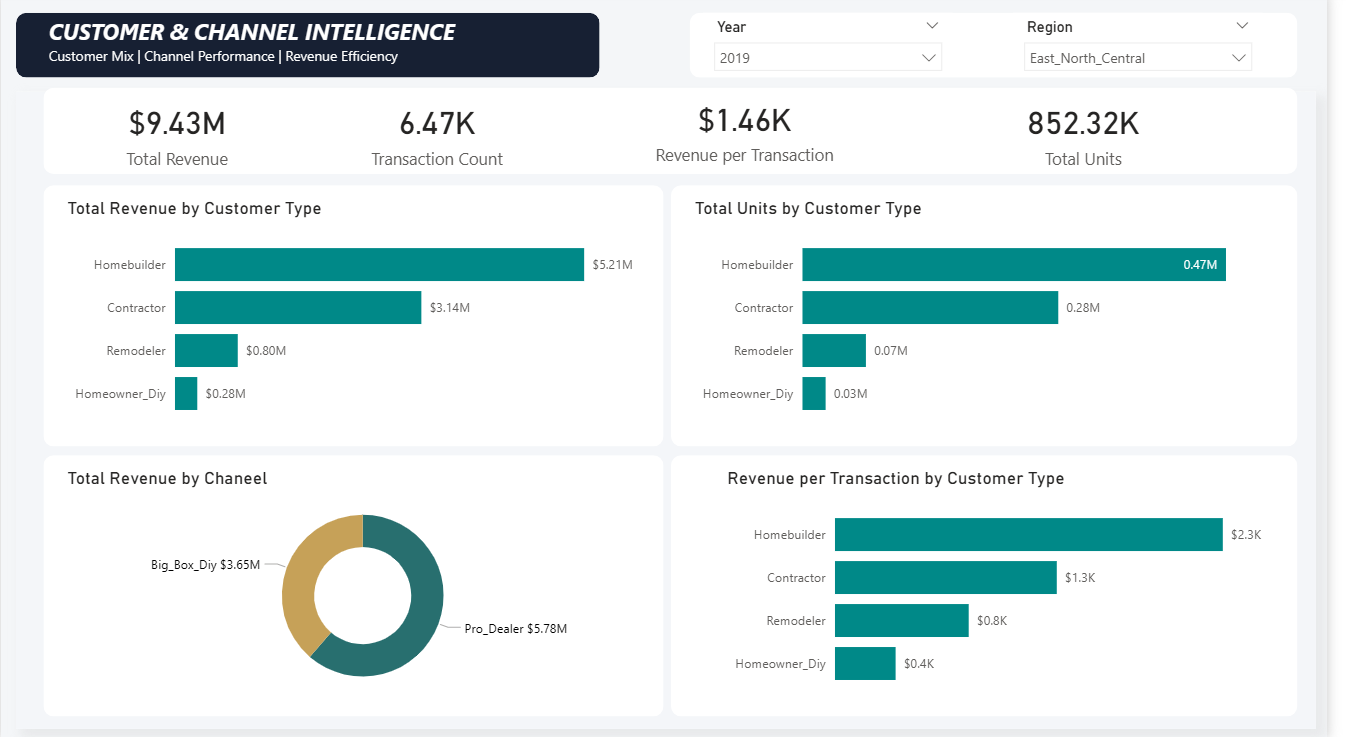

This screenshot's page, from the dashboard's own definition file:
{"tool":"powerbi","page":{"name":"CUSTOMER & CHANNEL INTELLIGENCE  ","canvas":[1280,720],"ordinal":3},"visuals":[{"type":"shape","box":[14.5,18.1,563.4,62.7],"z":0},{"type":"shape","box":[14.5,94.1,1254.7,615.3],"z":1000},{"type":"shape","box":[646.7,445.2,604.4,252.1],"z":2000},{"type":"shape","box":[41,445.2,598.4,252.1],"z":3000},{"type":"shape","box":[646.7,184.6,604.4,252.1],"z":4000},{"type":"shape","box":[41,184.6,598.4,252.1],"z":5000},{"type":"shape","box":[41,90.5,1210.1,83.2],"z":6000},{"type":"textbox","box":[41,18.1,506.7,62.7],"z":7000},{"type":"card","fields":{"Values":["_Measures.Total Revenue"]},"box":[68.8,94.1,202.7,79.6],"z":8000},{"type":"card","fields":{"Values":["_Measures.Transaction Count"]},"box":[319.7,94.1,202.7,79.6],"z":9000},{"type":"card","fields":{"Values":["_Measures.Revenue per Transaction"]},"box":[616.5,90.5,202.7,79.6],"z":10000},{"type":"card","fields":{"Values":["_Measures.Total Units"]},"box":[943.4,94.1,202.7,79.6],"z":11000},{"type":"barChart","fields":{"Category":["DimCustomer.Customer Type"],"Y":["_Measures.Total Revenue"]},"box":[59.1,196.6,557.4,228],"z":12000},{"type":"barChart","fields":{"Category":["DimCustomer.Customer Type"],"Y":["_Measures.Total Units"]},"box":[664.7,196.6,562.2,228],"z":13000},{"type":"barChart","fields":{"Category":["DimCustomer.Customer Type"],"Y":["_Measures.Revenue per Transaction"]},"box":[696.1,457.2,530.8,228],"z":14000},{"type":"donutChart","fields":{"Category":["DimChannel.Chaneel"],"Y":["_Measures.Total Revenue"]},"box":[59.1,457.2,580.3,228],"z":15000},{"type":"shape","box":[664.7,18.1,586.3,62.7],"z":16000},{"type":"slicer","fields":{"Values":["DimDate.Year"]},"box":[678,18.1,240.1,56.7],"z":17000},{"type":"slicer","fields":{"Values":["DimRegion.Region"]},"box":[977.2,18.1,240.1,56.7],"z":18000}]}

Visuals, with their boxes in screenshot pixels (x1, y1, x2, y2), scaled from the page's 1280x720 canvas onto the 1346x737 screenshot:
shape: box=[15, 19, 608, 83]
shape: box=[15, 96, 1335, 726]
shape: box=[680, 456, 1316, 714]
shape: box=[43, 456, 672, 714]
shape: box=[680, 189, 1316, 447]
shape: box=[43, 189, 672, 447]
shape: box=[43, 93, 1316, 178]
textbox: box=[43, 19, 576, 83]
card - _Measures.Total Revenue: box=[72, 96, 285, 178]
card - _Measures.Transaction Count: box=[336, 96, 549, 178]
card - _Measures.Revenue per Transaction: box=[648, 93, 861, 174]
card - _Measures.Total Units: box=[992, 96, 1205, 178]
barChart - DimCustomer.Customer Type x _Measures.Total Revenue: box=[62, 201, 648, 435]
barChart - DimCustomer.Customer Type x _Measures.Total Units: box=[699, 201, 1290, 435]
barChart - DimCustomer.Customer Type x _Measures.Revenue per Transaction: box=[732, 468, 1290, 701]
donutChart - DimChannel.Chaneel x _Measures.Total Revenue: box=[62, 468, 672, 701]
shape: box=[699, 19, 1316, 83]
slicer - DimDate.Year: box=[713, 19, 965, 77]
slicer - DimRegion.Region: box=[1028, 19, 1280, 77]
